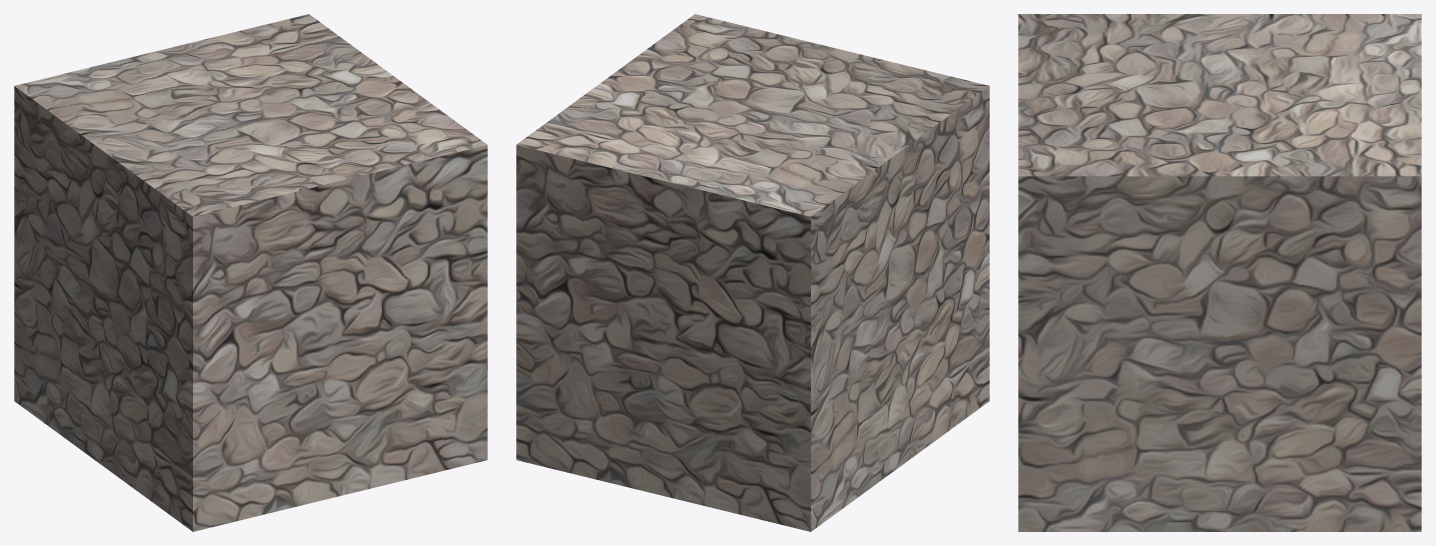
Rendered from Block_Brick.fbx.
The picture shows the model from 3 angles, left to right: view 1: azimuth 30°, elevation 25°; view 2: azimuth 150°, elevation 25°; view 3: azimuth 270°, elevation 25°; orthographic projection. The views are drawn at different scales.
Visible parts, largest first — view 1: Block_Brick; view 2: Block_Brick; view 3: Block_Brick.
Part boxes in pixels (<box>): Block_Brick: <box>14,14,487,531</box>; Block_Brick: <box>516,14,989,531</box>; Block_Brick: <box>1018,14,1421,531</box>.
Bounding box in the file's own units: 61.65 × 62.98 × 64.78.
